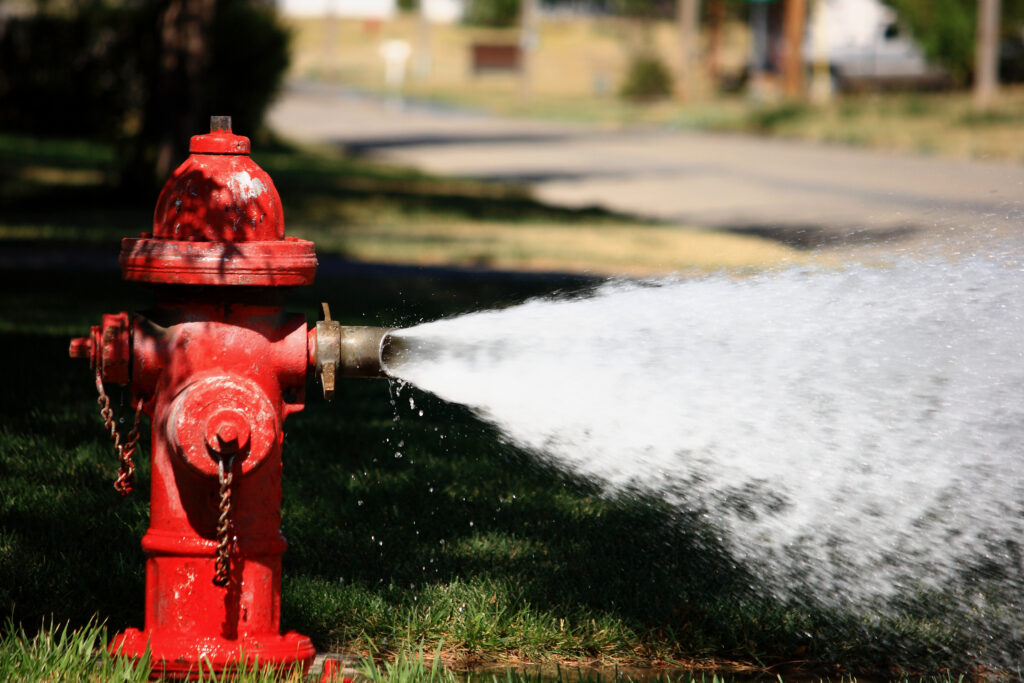FireHydrant: (58, 103, 404, 669)
